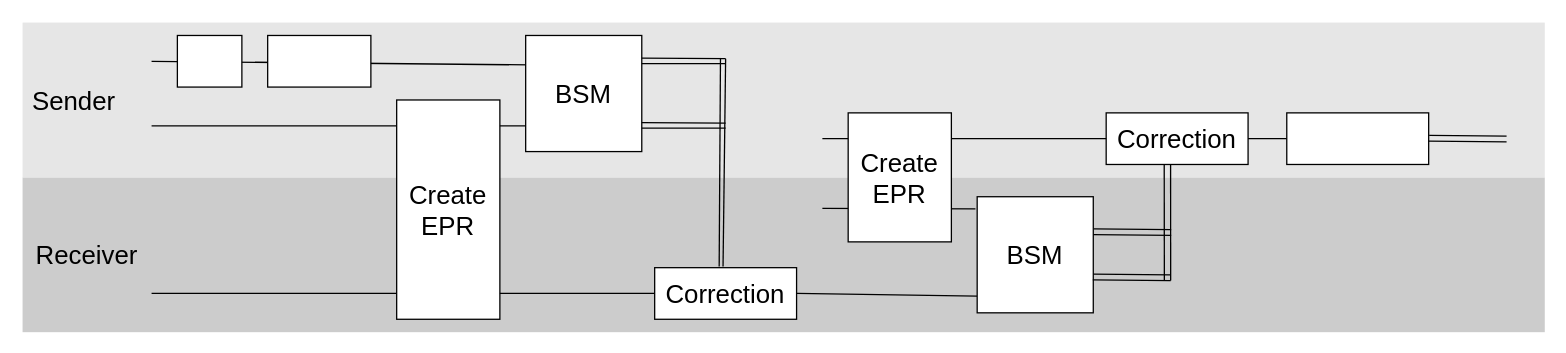
This 1566x353 diagram has some shape labels left out. The centre of each missing label's shape, as x and y in pixels:
Init: the point at 209,60
Measure: the point at 1357,138
Rotate: the point at 318,60
